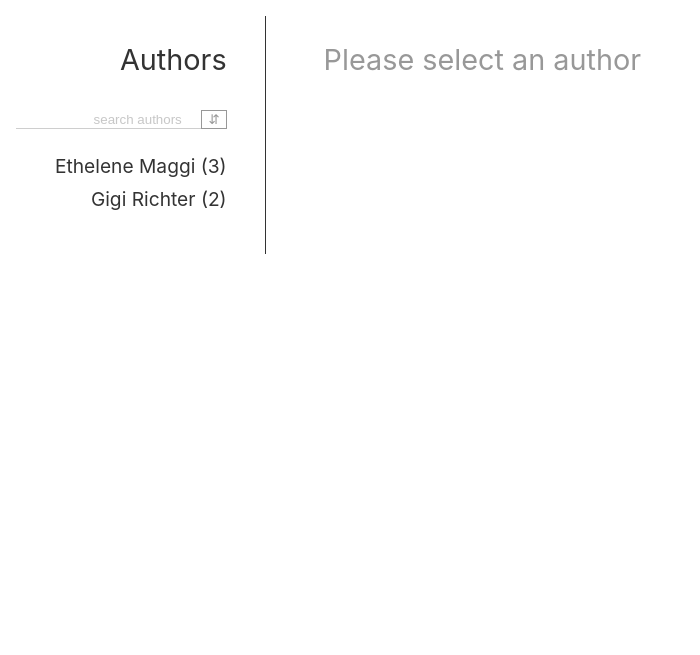
Test: Posts view › should display placeholder when no author was selected
The image size is (700, 655).
Expected: the heading "Please select an author" is shown, [324,42,641,77]
Click the text with test id "Author" showing "Ethelene Maggi (3)". click: point(141, 166)
box: [55,154,227,178]
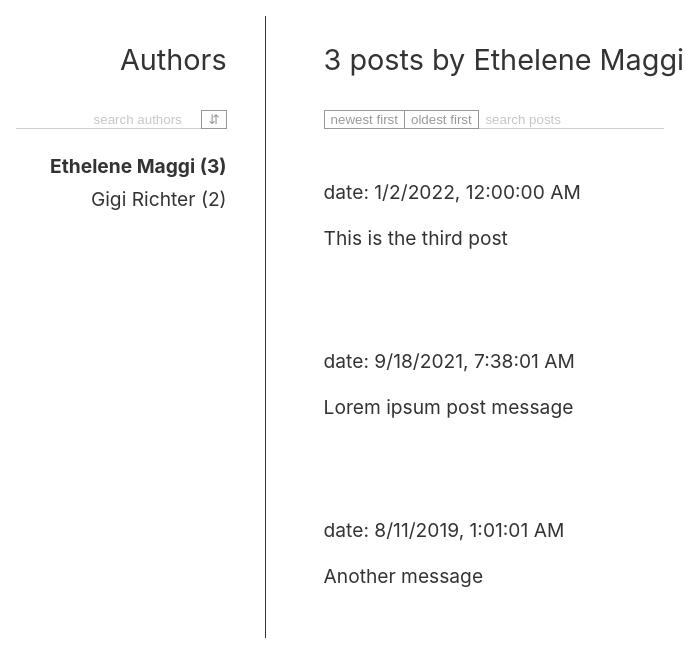
Expected: the heading "Please select an author" is gone
